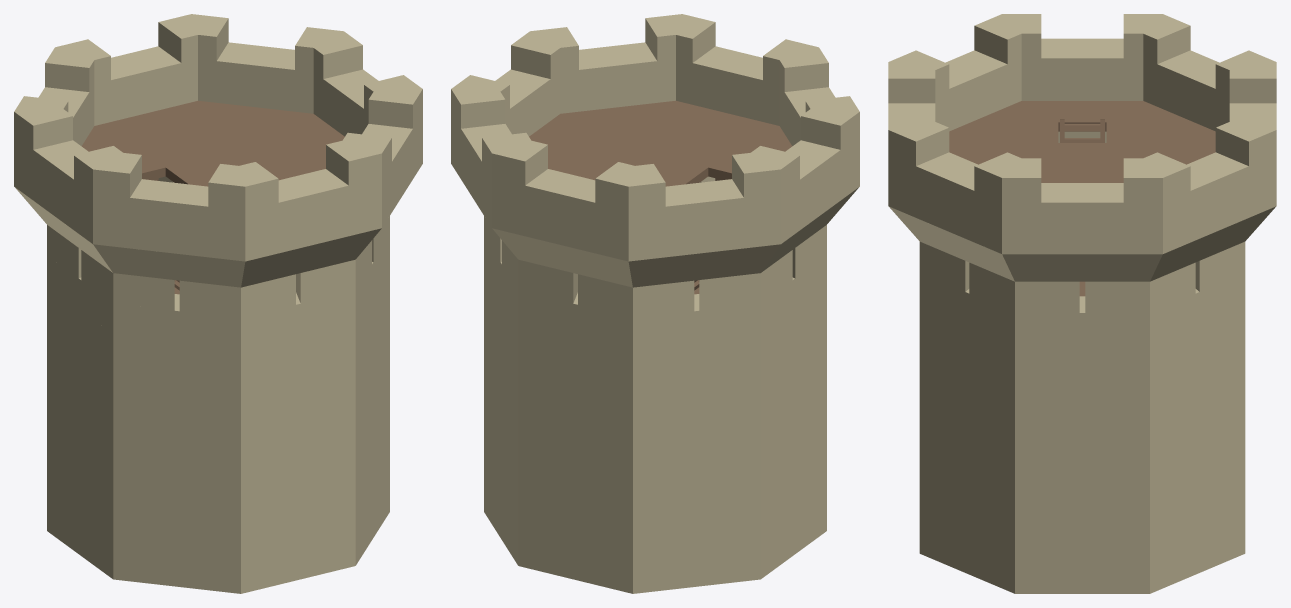
Rendered from Tornis-splitted.fbx.
3 renders of one model, left to right at view 1: azimuth 30°, elevation 25°; view 2: azimuth 150°, elevation 25°; view 3: azimuth 270°, elevation 25°, orthographic.
Parts seen in each view (by area): view 1: Small Tower Full.001, Sienas gabals#2.002, Sienas gabals#2.008, Sienas gabals#2.014, Sienas gabals2#3.004, Sienas gabals#2.015, OuterShell.054, Sienas gabals2#3.007, OuterShell.050, OuterShell.058, OuterShell.061, OuterShell.046 (+86 smaller); view 2: Small Tower Full.001, Sienas gabals#2.010, Sienas gabals#2.012, Sienas gabals#2.007, Sienas gabals2#3.006, Sienas gabals#2.006, OuterShell.083, Sienas gabals2#3.003, OuterShell.037, OuterShell.018, OuterShell.072, OuterShell.079 (+86 smaller); view 3: Small Tower Full.001, Sienas gabals#2.001, Sienas gabals#2.004, Sienas gabals2#3.001, OuterShell.044, OuterShell.009, OuterShell.011, OuterShell.016, OuterShell.021, OuterShell.025, OuterShell.039, OuterShell.043 (+77 smaller).
Boxes of the visible parts, x1,y1,x2,y2 form: Small Tower Full.001: (14, 14, 422, 210); Sienas gabals#2.002: (93, 179, 161, 250); Sienas gabals#2.008: (188, 186, 245, 261); Sienas gabals#2.014: (308, 169, 381, 240); Sienas gabals2#3.004: (149, 181, 200, 254); Sienas gabals#2.015: (245, 186, 296, 261); OuterShell.054: (160, 294, 240, 348); Sienas gabals2#3.007: (278, 173, 331, 248); OuterShell.050: (160, 493, 240, 532); OuterShell.058: (113, 334, 193, 373); OuterShell.061: (113, 395, 193, 435); OuterShell.046: (160, 554, 240, 593); Small Tower Full.001: (451, 14, 859, 210); Sienas gabals#2.010: (712, 179, 780, 250); Sienas gabals#2.012: (628, 186, 685, 261); Sienas gabals#2.007: (492, 169, 565, 240); Sienas gabals2#3.006: (673, 181, 724, 254); Sienas gabals#2.006: (577, 186, 628, 261); OuterShell.083: (680, 294, 760, 343); Sienas gabals2#3.003: (542, 173, 595, 248); OuterShell.037: (680, 487, 760, 527); OuterShell.018: (633, 462, 713, 501); OuterShell.072: (680, 365, 760, 404); OuterShell.079: (633, 340, 713, 379); Small Tower Full.001: (888, 14, 1276, 202); Sienas gabals#2.001: (1103, 183, 1162, 254); Sienas gabals#2.004: (1002, 183, 1061, 254); Sienas gabals2#3.001: (1062, 183, 1102, 254); OuterShell.044: (1065, 296, 1149, 344); OuterShell.009: (1065, 375, 1149, 406); OuterShell.011: (1065, 500, 1149, 531); OuterShell.016: (1065, 562, 1149, 593); OuterShell.021: (1015, 406, 1099, 437); OuterShell.025: (1015, 531, 1099, 562); OuterShell.039: (1015, 344, 1099, 375); OuterShell.043: (1015, 469, 1099, 500).
Size of the model in its own units: 596 by 727 by 596.
